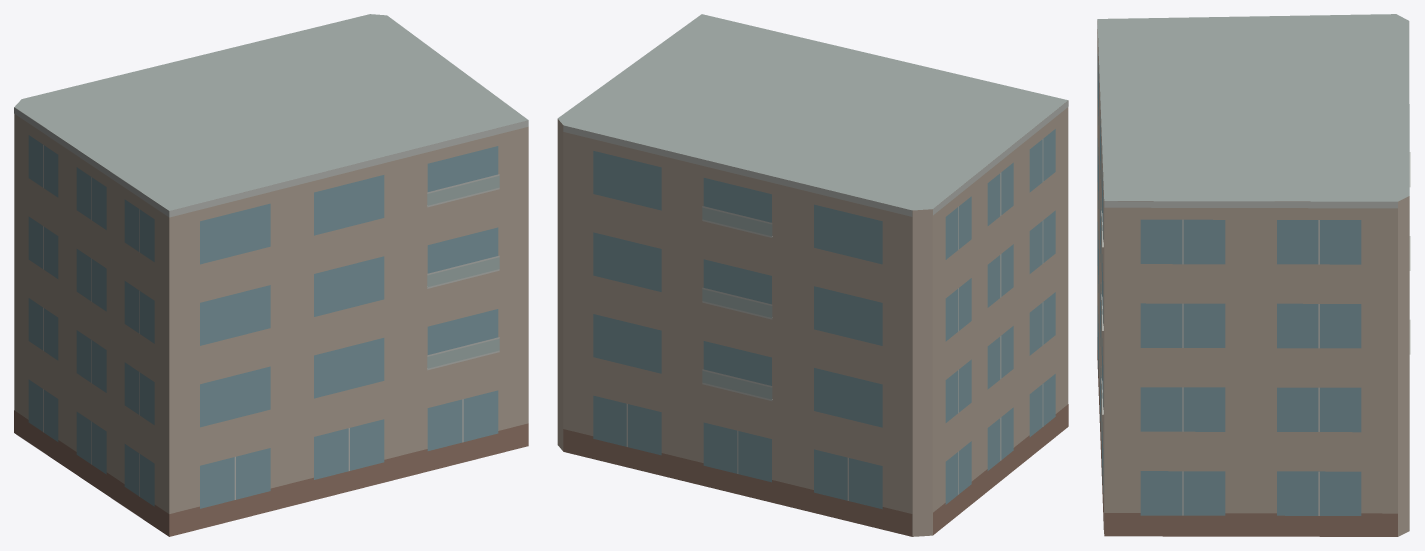
The model's file is survey-upis-32638421.glb.
3 views of the same model, side by side, from view 1: azimuth 30°, elevation 25°; view 2: azimuth 150°, elevation 25°; view 3: azimuth 270°, elevation 25° (orthographic). The views are drawn at different scales.
Visible parts, largest first — view 1: survey-upis-32638421.tmp; view 2: survey-upis-32638421.tmp; view 3: survey-upis-32638421.tmp.
Boxes of the visible parts, x1,y1,x2,y2 form: survey-upis-32638421.tmp: (14, 14, 528, 536); survey-upis-32638421.tmp: (557, 14, 1068, 536); survey-upis-32638421.tmp: (1097, 14, 1410, 536).
Size of the model in its own units: 14.65 by 12.2 by 10.34.
